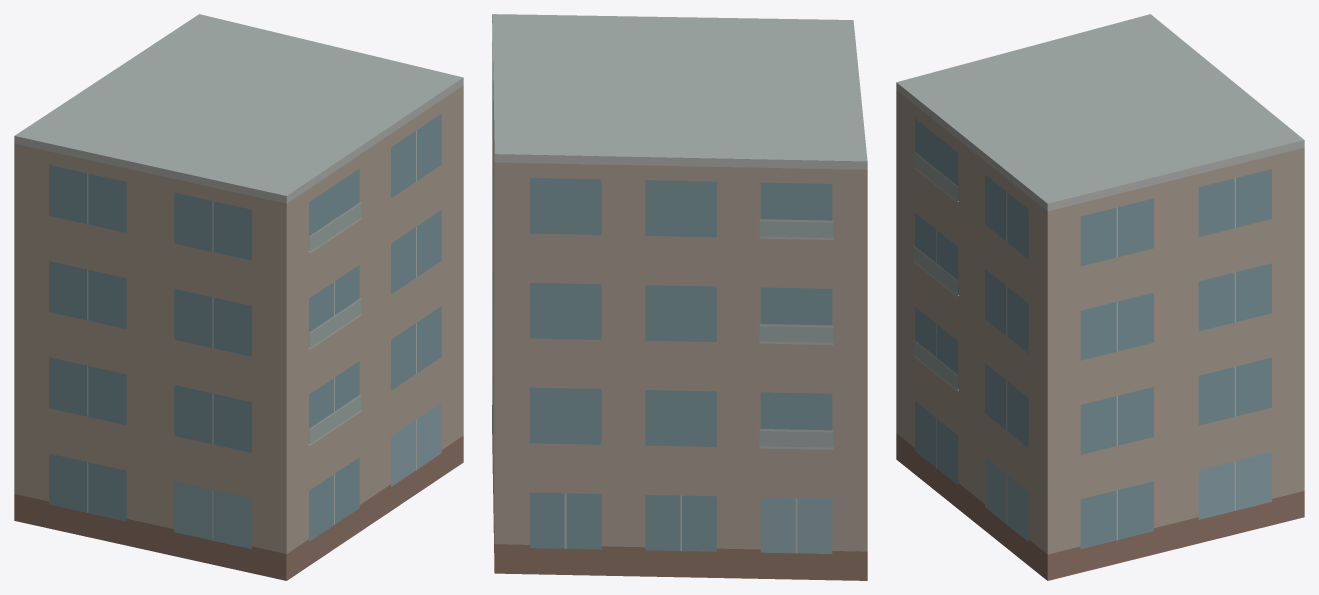
Rendered from survey-upis-32783655.glb.
3 renders of one model, left to right at view 1: azimuth 30°, elevation 25°; view 2: azimuth 150°, elevation 25°; view 3: azimuth 270°, elevation 25°, orthographic. The views are drawn at different scales.
Parts seen in each view (by area): view 1: survey-upis-32783655.tmp; view 2: survey-upis-32783655.tmp; view 3: survey-upis-32783655.tmp.
Boxes of the visible parts, left/top/right/bottom form: survey-upis-32783655.tmp: left=14, top=14, right=463, bottom=580; survey-upis-32783655.tmp: left=492, top=14, right=867, bottom=580; survey-upis-32783655.tmp: left=896, top=14, right=1304, bottom=580.
Size of the model in its own units: 13.12 by 12.15 by 11.93.
